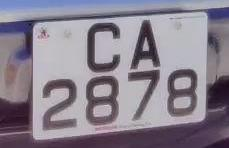2: (38, 73, 83, 135)
7: (121, 66, 165, 127)
8: (76, 71, 124, 127), (162, 61, 203, 125)
A: (128, 14, 167, 75)
C: (82, 19, 125, 76)
